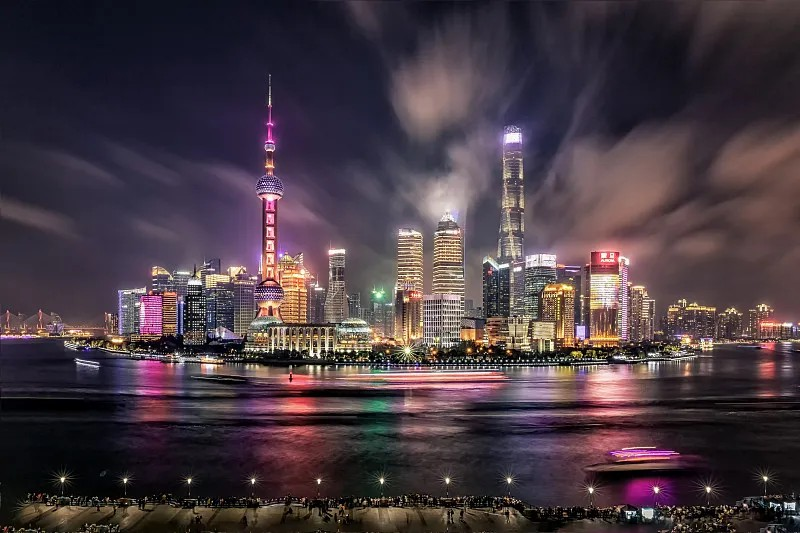Oriental: (253, 75, 285, 323)
